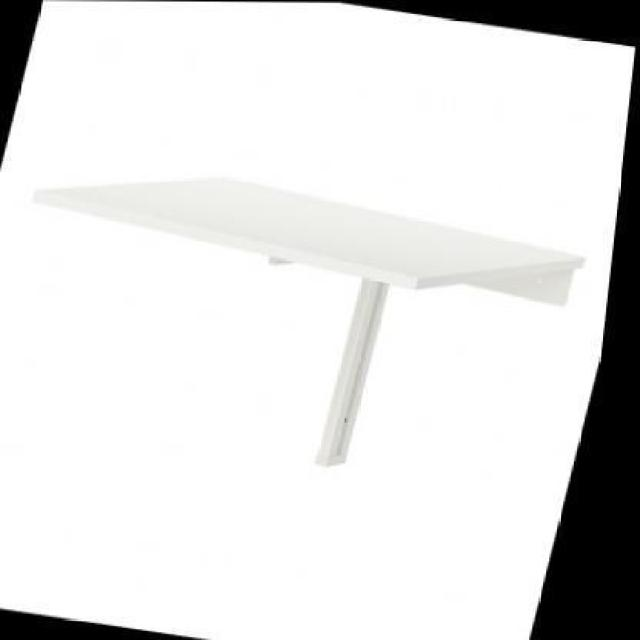tables: (31, 172, 586, 466)
